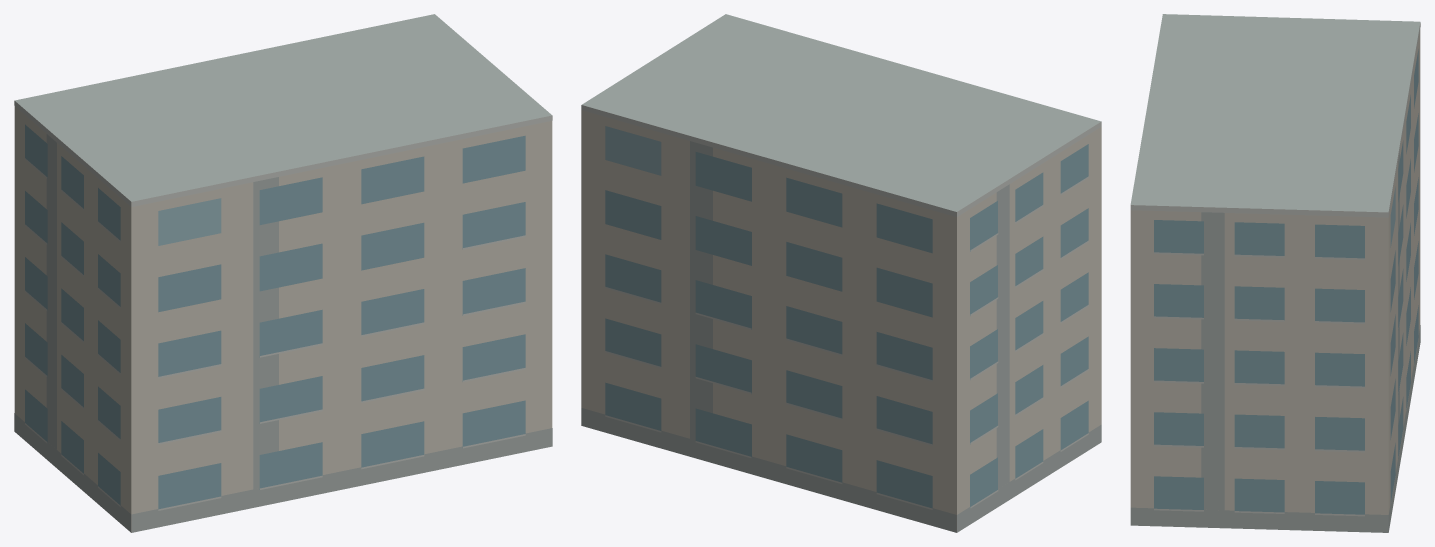
The model's file is survey-upis-32984980.glb.
3 views of the same model, side by side, from view 1: azimuth 30°, elevation 25°; view 2: azimuth 150°, elevation 25°; view 3: azimuth 270°, elevation 25° (orthographic). The views are drawn at different scales.
Visible parts, largest first — view 1: survey-upis-32984980.tmp; view 2: survey-upis-32984980.tmp; view 3: survey-upis-32984980.tmp.
Boxes of the visible parts, left/top/right/bottom form: survey-upis-32984980.tmp: left=14, top=14, right=552, bottom=532; survey-upis-32984980.tmp: left=581, top=14, right=1101, bottom=532; survey-upis-32984980.tmp: left=1130, top=14, right=1420, bottom=532.
Bounding box in the file's own units: 20.26 × 15.25 × 12.52.
